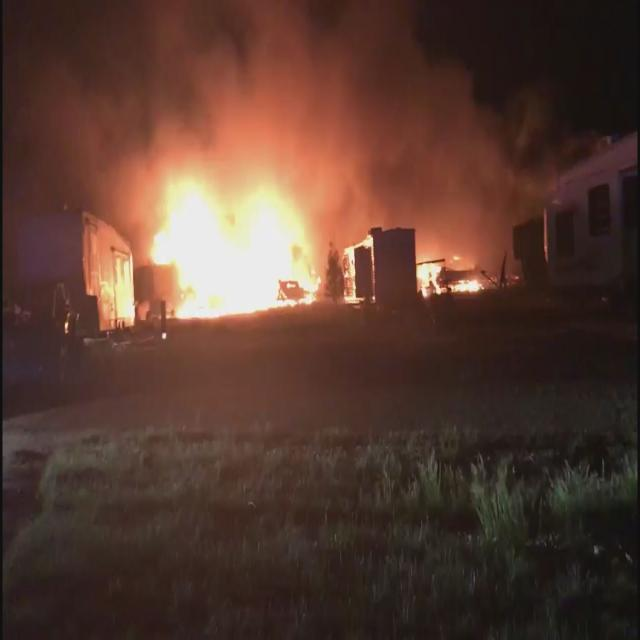Fire: (150, 180, 320, 320), (418, 263, 442, 297), (449, 278, 484, 295), (453, 254, 462, 262)
Smoke: (3, 0, 320, 182), (320, 0, 518, 251), (516, 92, 554, 216), (106, 180, 150, 236)
